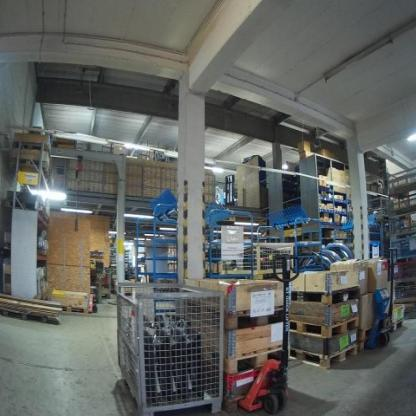pallet: (290, 284, 360, 335), (225, 343, 290, 374), (228, 385, 291, 414), (291, 342, 356, 367), (224, 305, 290, 329), (0, 308, 48, 324), (12, 138, 48, 151), (10, 157, 47, 168), (63, 308, 89, 313)
pallet_truck: (239, 252, 301, 411), (365, 244, 397, 354), (87, 242, 104, 320)
stillage: (115, 277, 227, 415), (386, 232, 414, 259), (389, 282, 415, 305), (389, 259, 415, 279)
